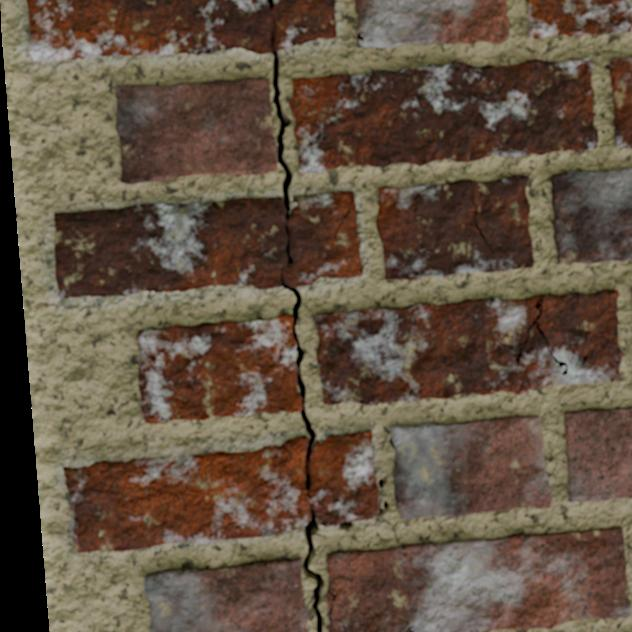brick: (289, 58, 597, 172), (314, 290, 621, 404), (327, 528, 630, 631), (137, 315, 301, 422), (115, 78, 276, 182), (390, 416, 550, 518), (377, 175, 533, 279), (145, 558, 306, 631), (552, 168, 631, 262), (356, 0, 508, 47), (565, 408, 631, 501), (528, 0, 631, 37), (610, 57, 631, 147), (329, 622, 342, 631), (327, 592, 330, 606)
broken_brick: (62, 429, 379, 553), (53, 191, 363, 299), (25, 0, 337, 61)
crack: (0, 2, 51, 631), (280, 273, 317, 496), (301, 505, 346, 631), (268, 17, 293, 234), (512, 294, 568, 376), (371, 474, 390, 521), (356, 30, 365, 48), (555, 231, 566, 245), (338, 521, 353, 530), (266, 0, 274, 9), (405, 625, 414, 631), (389, 437, 394, 445)
